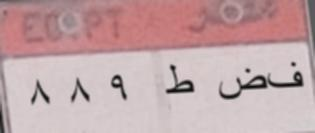8: (25, 75, 55, 111), (64, 73, 92, 109)
9: (108, 72, 132, 108)
Taa: (165, 60, 193, 101)
daad: (214, 65, 266, 107)
faa: (269, 57, 304, 93)
